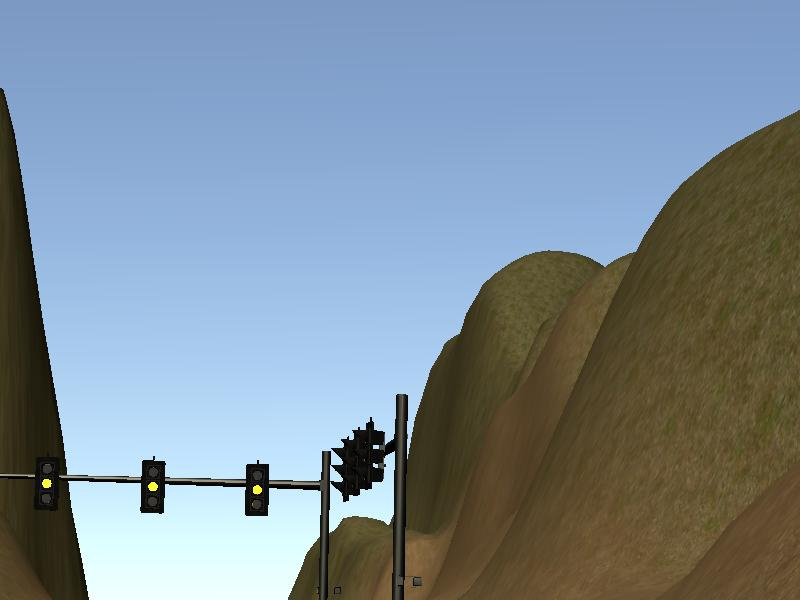yellow_light: (143, 462, 166, 511), (248, 465, 267, 515), (38, 460, 57, 508)
